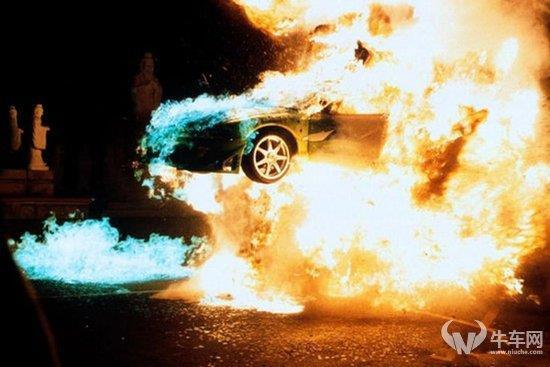fire: (150, 0, 548, 311)
